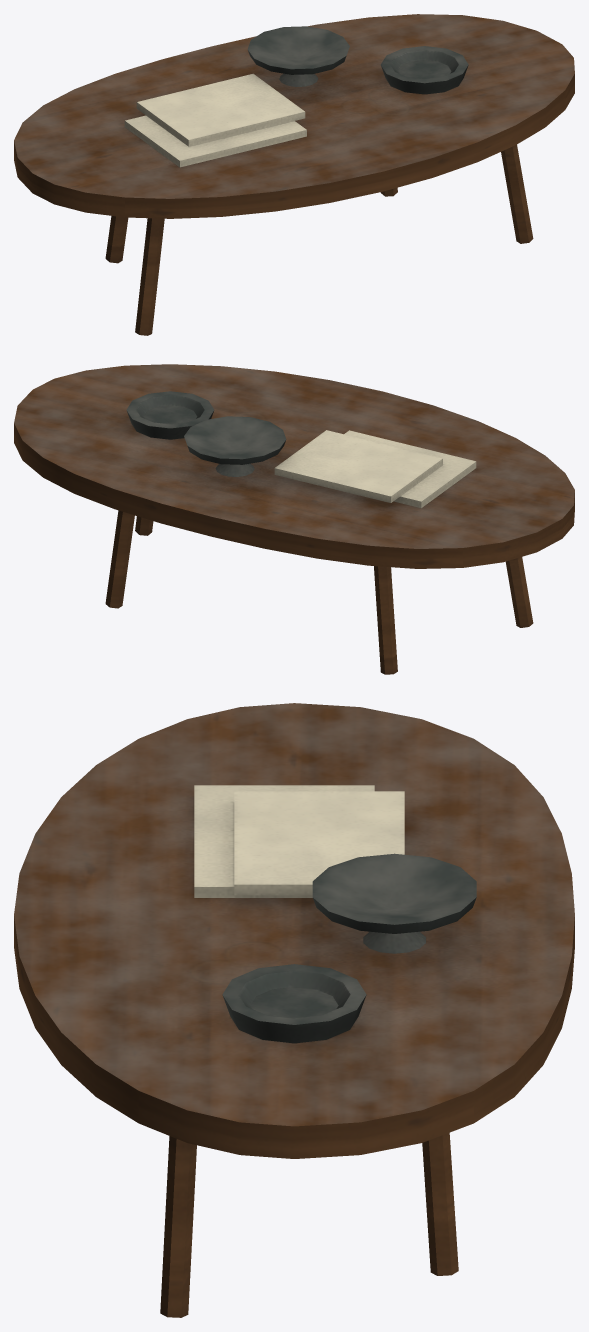
File: H_CoffeeTable.fbx
The picture shows the model from 3 angles, top to bottom: view 1: azimuth 30°, elevation 25°; view 2: azimuth 150°, elevation 25°; view 3: azimuth 270°, elevation 25°; orthographic projection. The views are drawn at different scales.
Parts seen in each view (by area): view 1: H_CoffeeTable; view 2: H_CoffeeTable; view 3: H_CoffeeTable.
Part boxes in pixels (x1,y1,x2,y2): H_CoffeeTable: (14,14,574,335); H_CoffeeTable: (14,364,574,674); H_CoffeeTable: (14,703,574,1317).
Size of the model in its own units: 500 by 165 by 280.
Materials: 1 (1 with a texture image).
